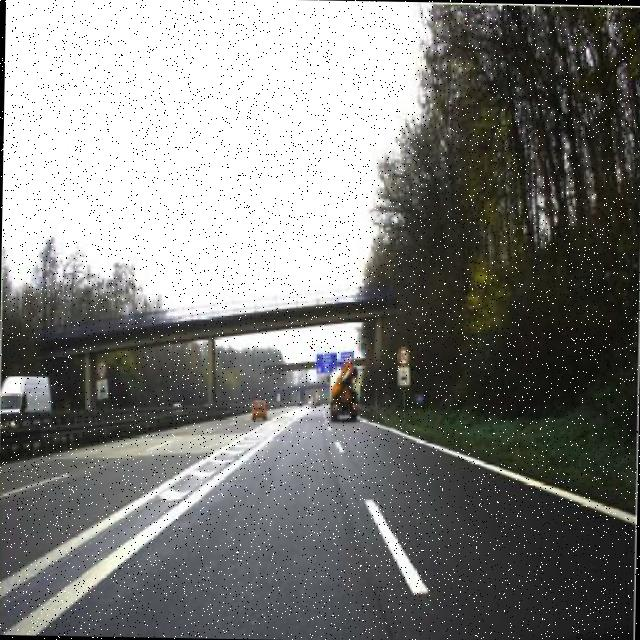Ograniczenie predkosci do 80: (394, 342, 411, 368), (94, 355, 108, 380)
